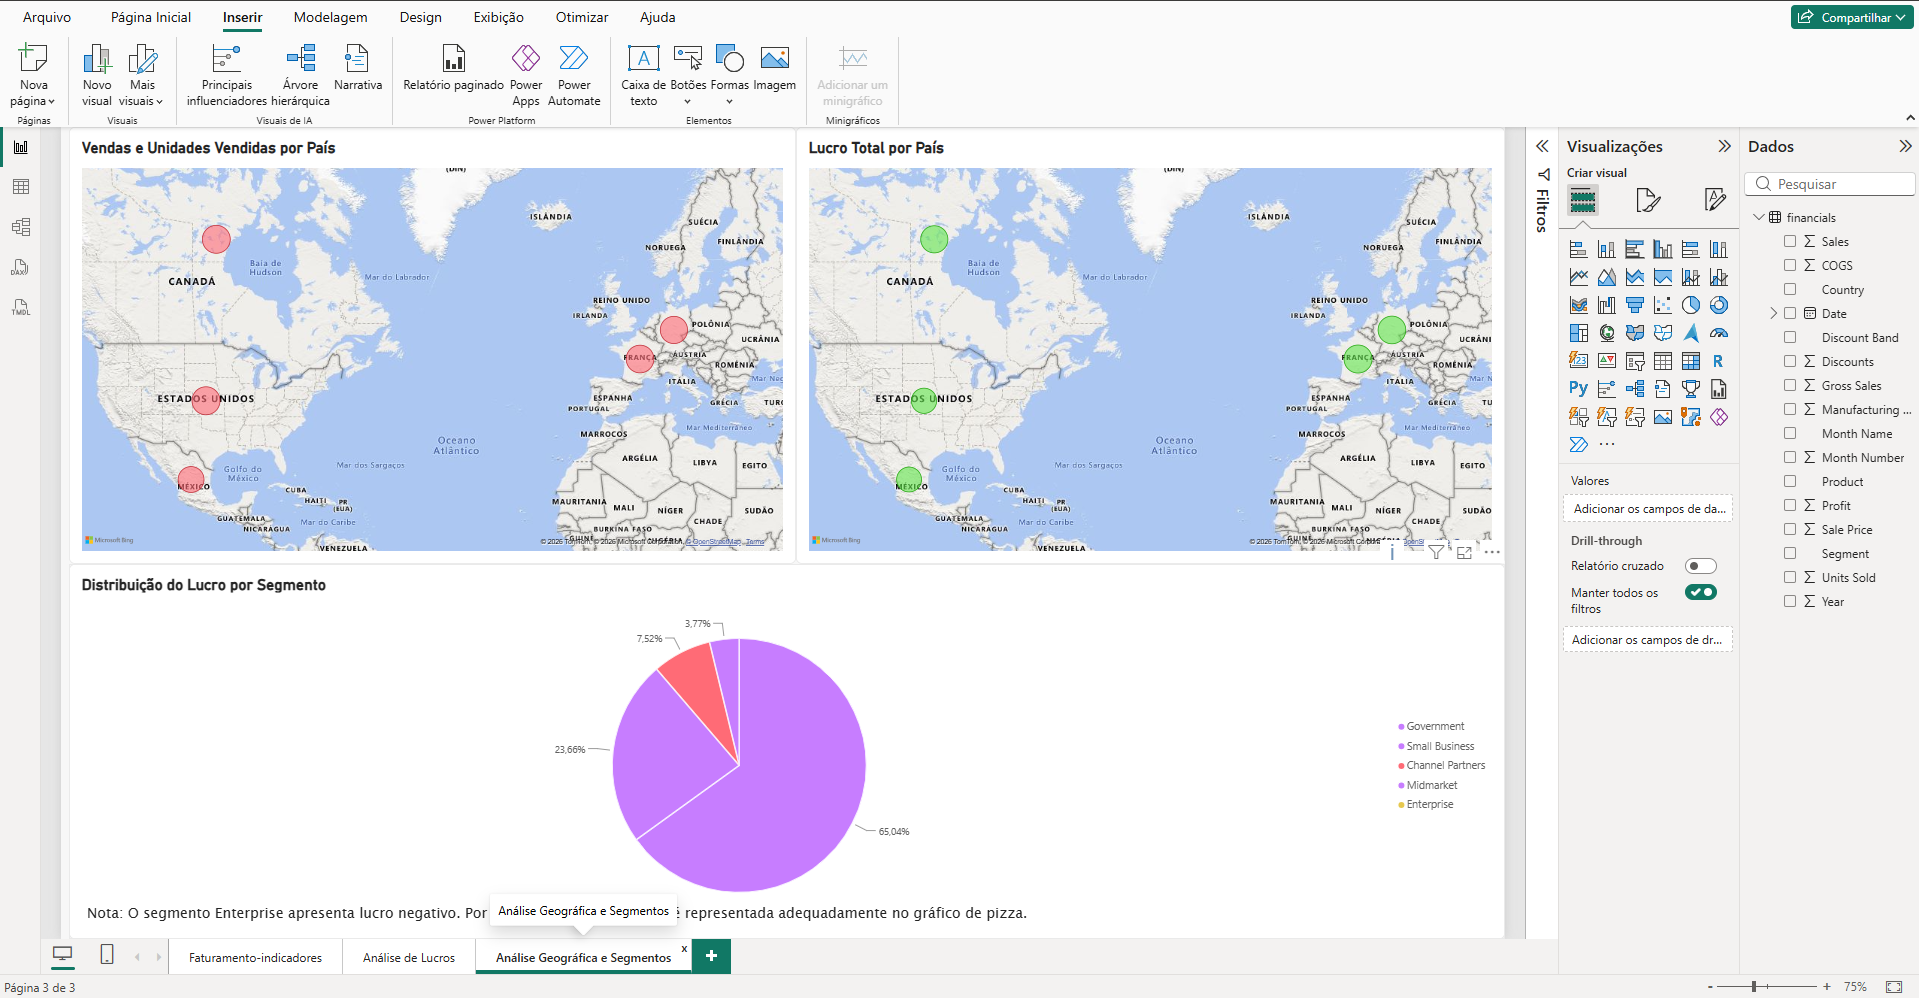

The page's visual inventory and layout, read from the dashboard file:
{"tool":"powerbi","page":{"name":"Análise Geográfica e Segmentos","canvas":[1920,1080],"ordinal":2},"visuals":[{"type":"map","title":"Vendas e Unidades Vendidas por País","fields":{"Category":["financials.Country"],"Size":["Sum(financials. Sales)"]},"box":[10.6,0,966.9,581.2],"z":0},{"type":"map","title":"Lucro Total por País","fields":{"Category":["financials.Country"],"Size":["Sum(financials.Profit)"]},"box":[977.6,0,943,581.2],"z":1000},{"type":"pieChart","title":"Distribuição do Lucro por Segmento","fields":{"Category":["financials.Segment"],"Y":["Sum(financials.Profit)"]},"box":[10.6,581.2,1910,498.8],"z":2000},{"type":"textbox","box":[100,100,300,300],"z":3000},{"type":"textbox","box":[34.6,1032.1,1443.1,27.9],"z":4000}]}

Visuals, with their boxes on the page's 1920x1080 design canvas (x1, y1, x2, y2). These are canvas units, not pixel positions in the 1919x998 screenshot, which may show the page scaled, cropped or inside an application window:
"Vendas e Unidades Vendidas por País" map: rect(11, 0, 978, 581)
"Lucro Total por País" map: rect(978, 0, 1921, 581)
"Distribuição do Lucro por Segmento" pieChart: rect(11, 581, 1921, 1080)
textbox: rect(100, 100, 400, 400)
textbox: rect(35, 1032, 1478, 1060)
